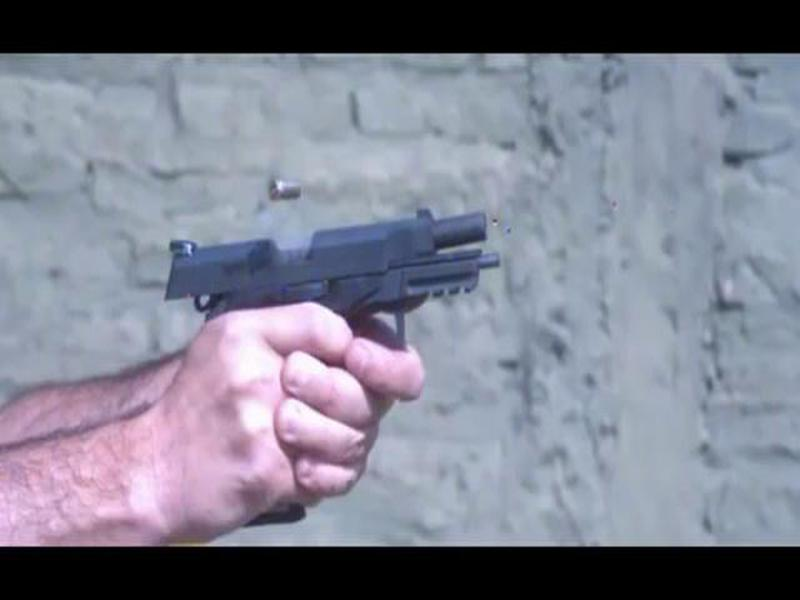Pistola: (172, 198, 513, 435)
